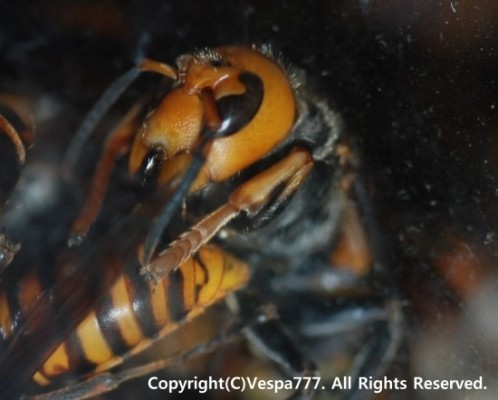asian_giant_hornet: (123, 39, 391, 356), (1, 243, 254, 400)
